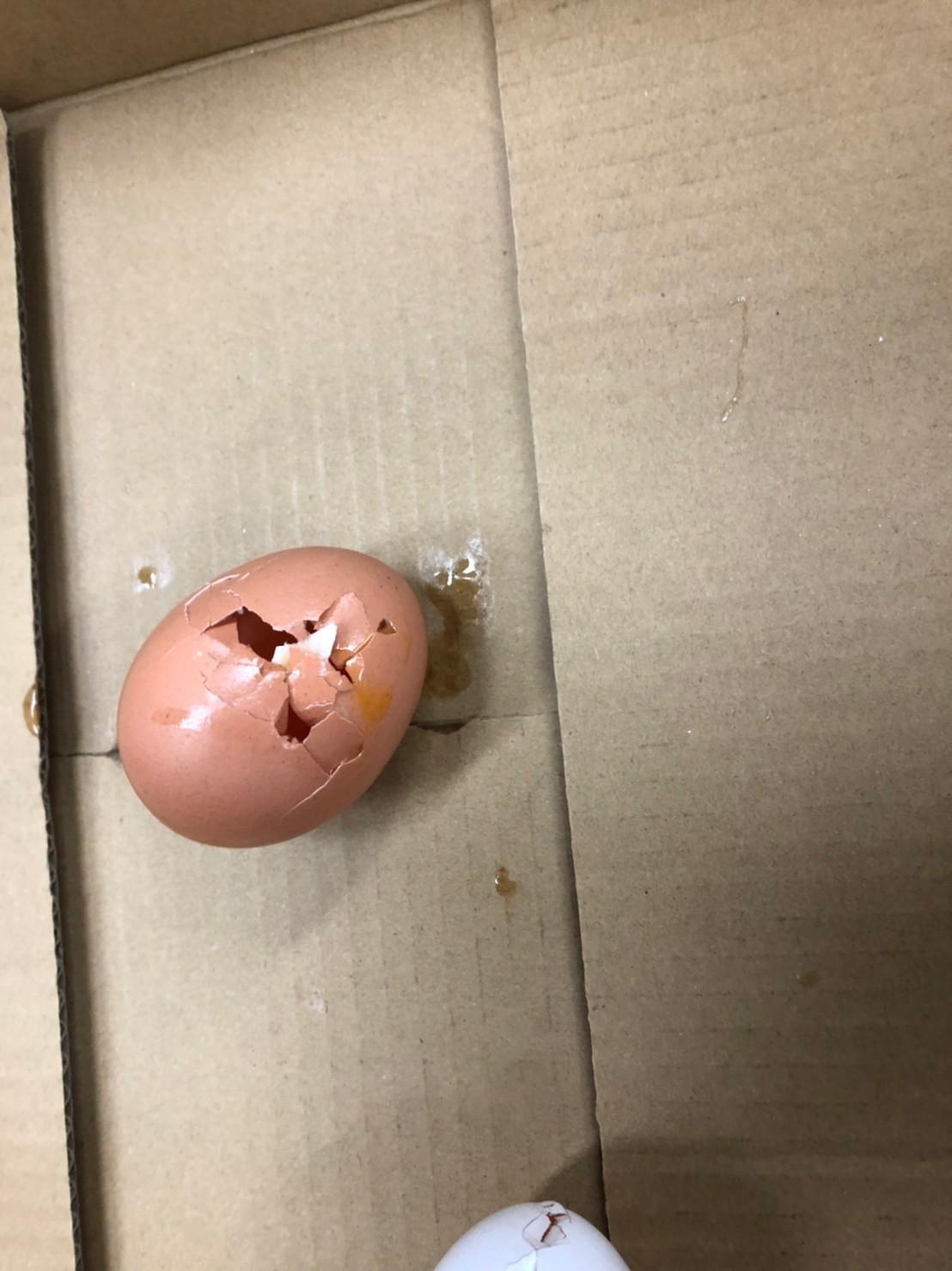egg: (110, 539, 431, 853)
